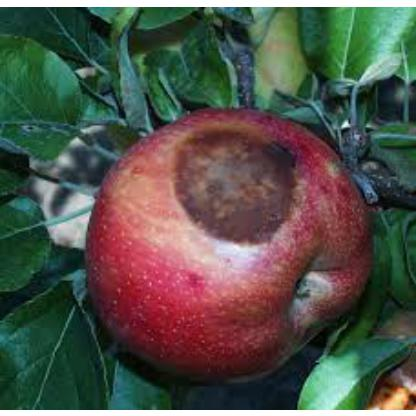damaged_apple: (95, 108, 368, 360)
